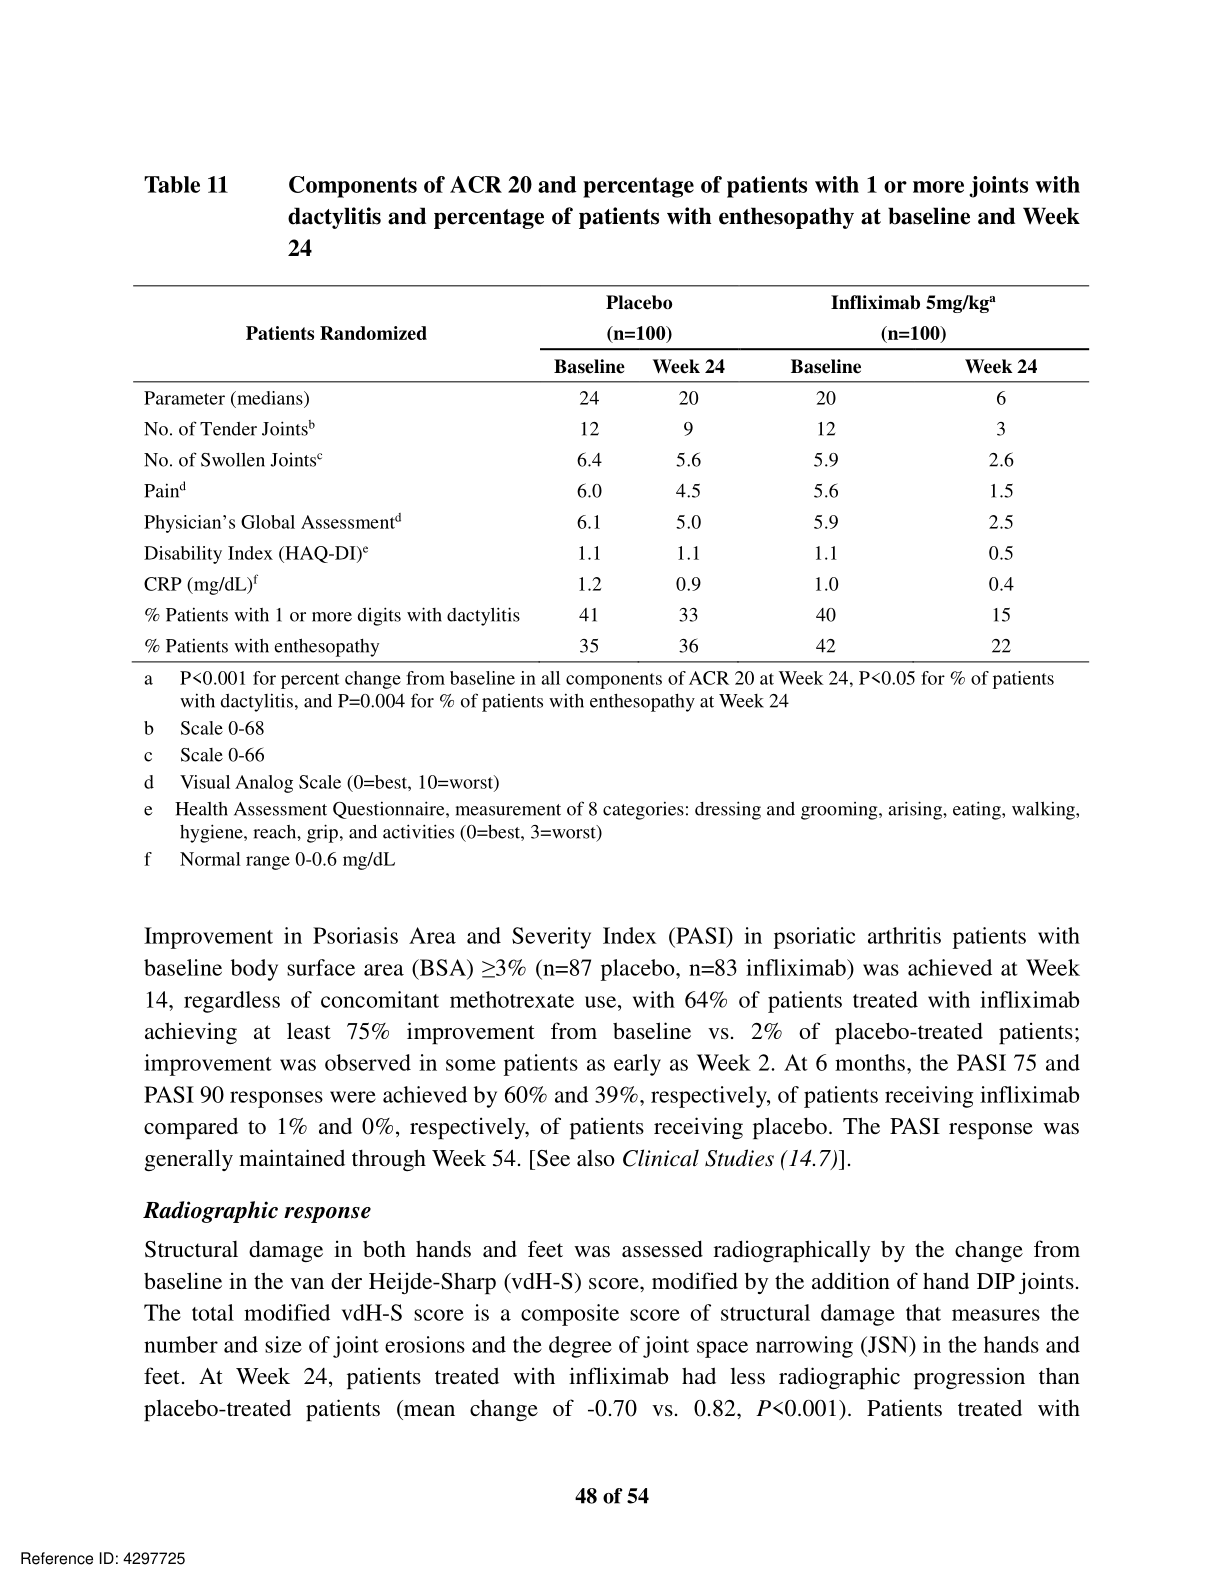partial_lined_merged_cells: (130, 284, 1092, 663)
